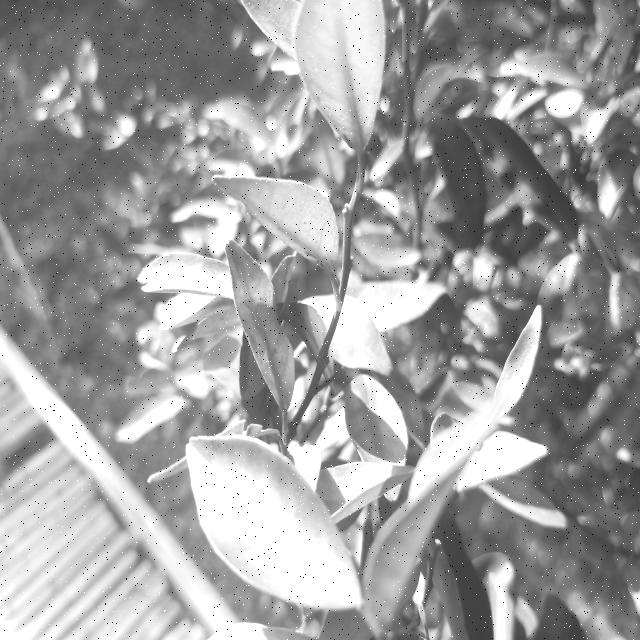blackspot: (294, 0, 384, 148), (224, 168, 340, 273), (230, 254, 300, 408)
